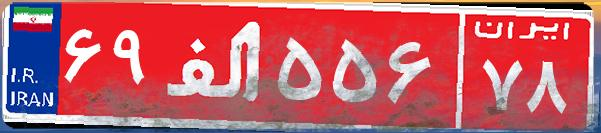5: (273, 28, 330, 110), (330, 28, 385, 110)
6: (385, 28, 445, 110), (57, 26, 110, 107)
7: (475, 38, 525, 113)
8: (525, 38, 570, 115)
9: (110, 28, 158, 105)
الف: (158, 15, 273, 115)
